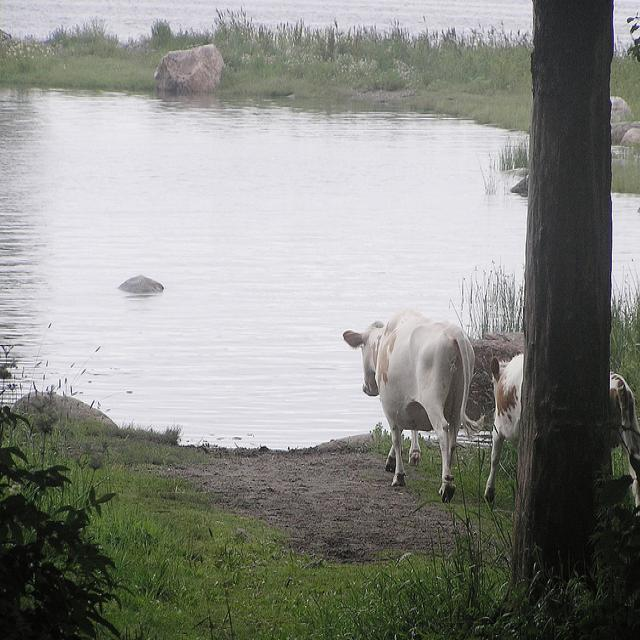cow: (342, 312, 484, 502), (484, 353, 637, 501)
